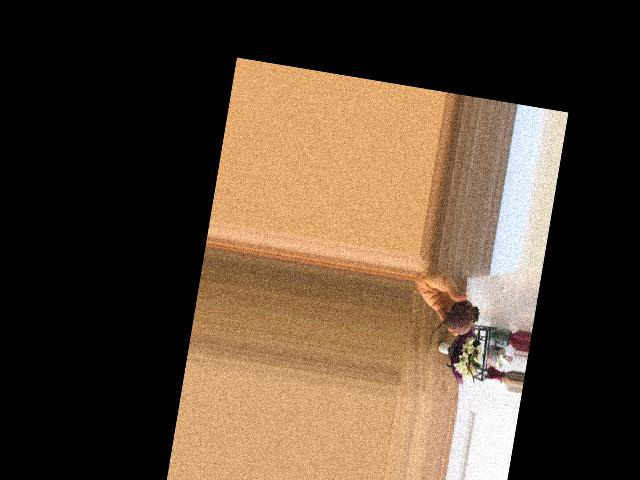beet: (428, 295, 481, 353)
